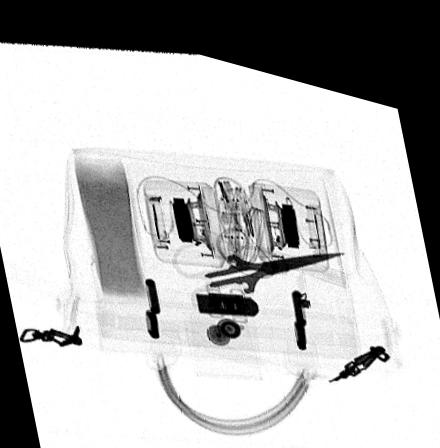Scissors: (170, 231, 344, 303)
